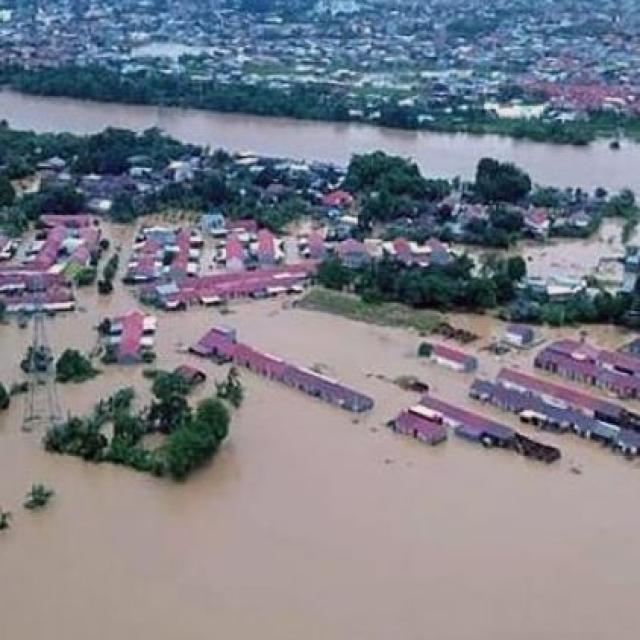flooded_areas: (4, 178, 638, 620)
